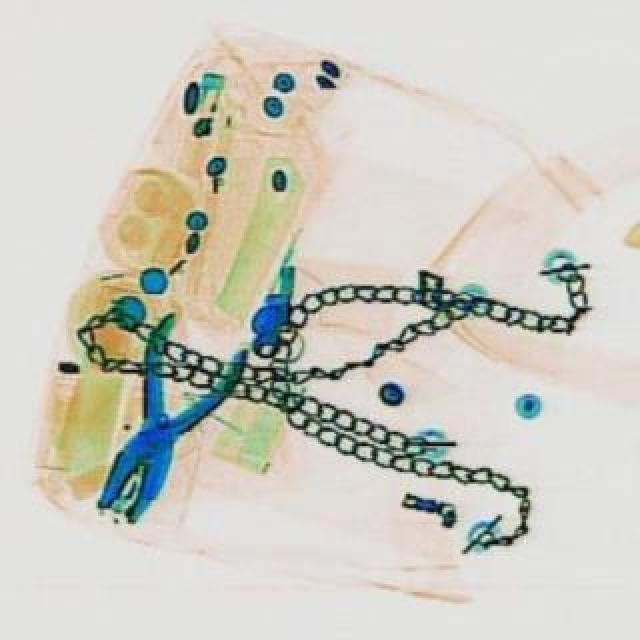wrench: (62, 306, 254, 536)
